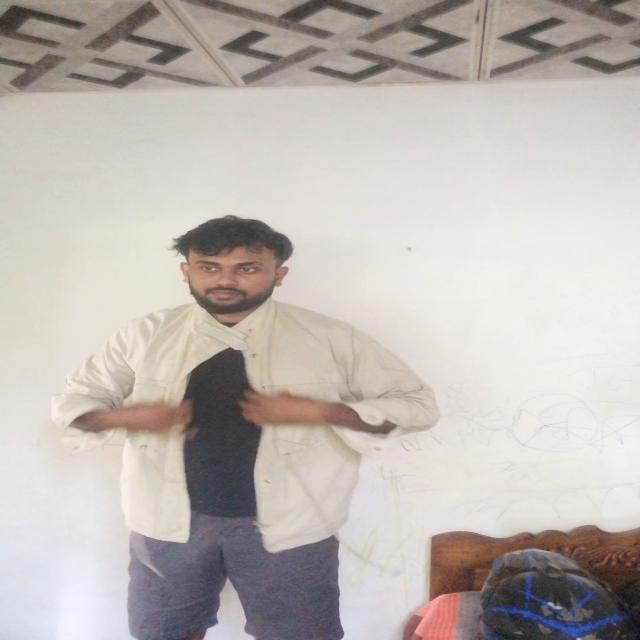Jacket_Wearer: (71, 291, 440, 574)
Person: (61, 208, 452, 640)
